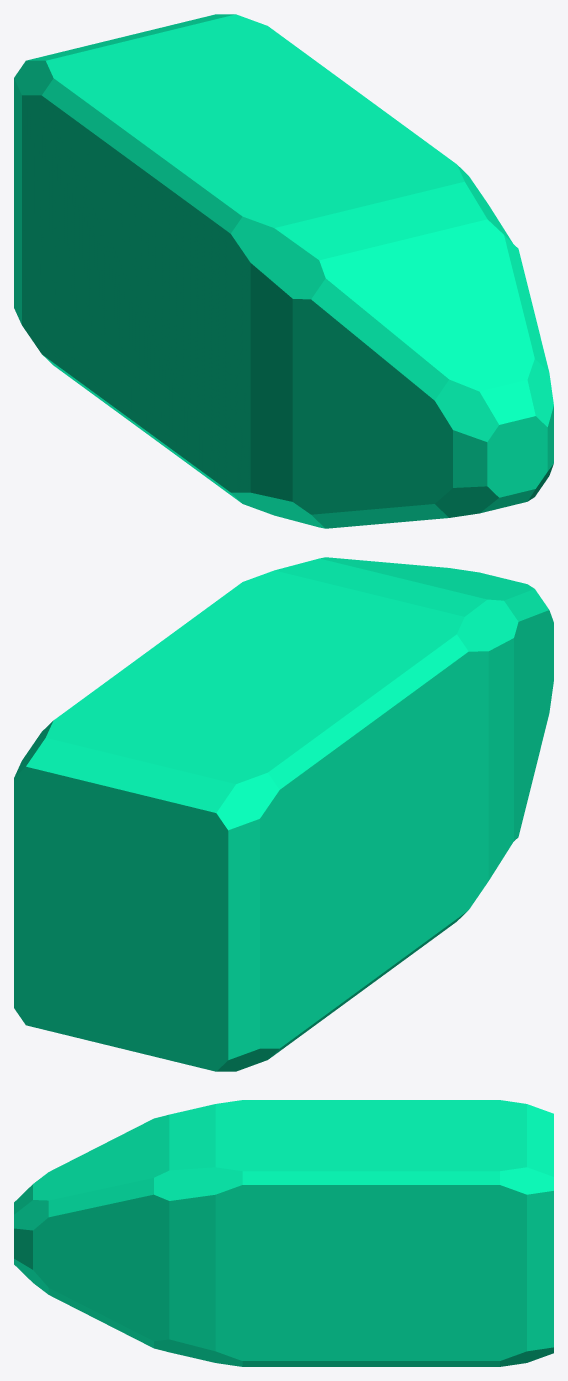
Rendered from Kinetic-Blast.obj.
The picture shows the model from 3 angles, top to bottom: view 1: azimuth 30°, elevation 25°; view 2: azimuth 150°, elevation 25°; view 3: azimuth 270°, elevation 25°; orthographic projection. The views are drawn at different scales.
Parts seen in each view (by area): view 1: Cube_Cube.001; view 2: Cube_Cube.001; view 3: Cube_Cube.001.
Part boxes in pixels (x1=…): Cube_Cube.001: x1=14, y1=14, x2=553, y2=528; Cube_Cube.001: x1=14, y1=557, x2=553, y2=1071; Cube_Cube.001: x1=14, y1=1100, x2=553, y2=1366.
Size of the model in its own units: 0.052 by 0.06 by 0.15.
